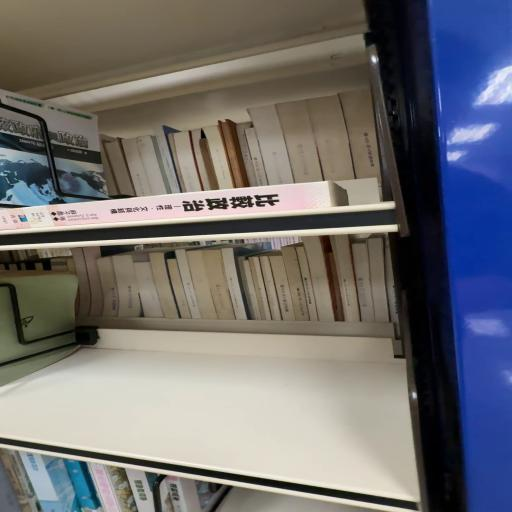flat: (1, 182, 349, 235)
